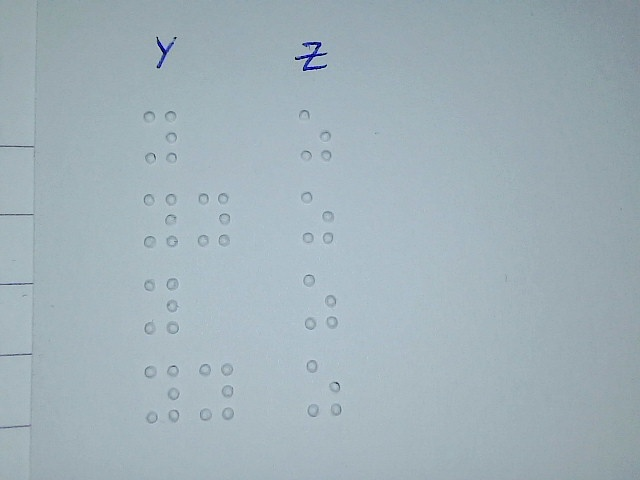Y: (143, 363, 181, 424), (143, 276, 179, 335), (199, 362, 235, 421), (143, 108, 177, 165), (197, 190, 231, 247)
Z: (305, 357, 343, 418), (298, 107, 332, 164), (301, 189, 335, 246), (303, 273, 337, 330)
